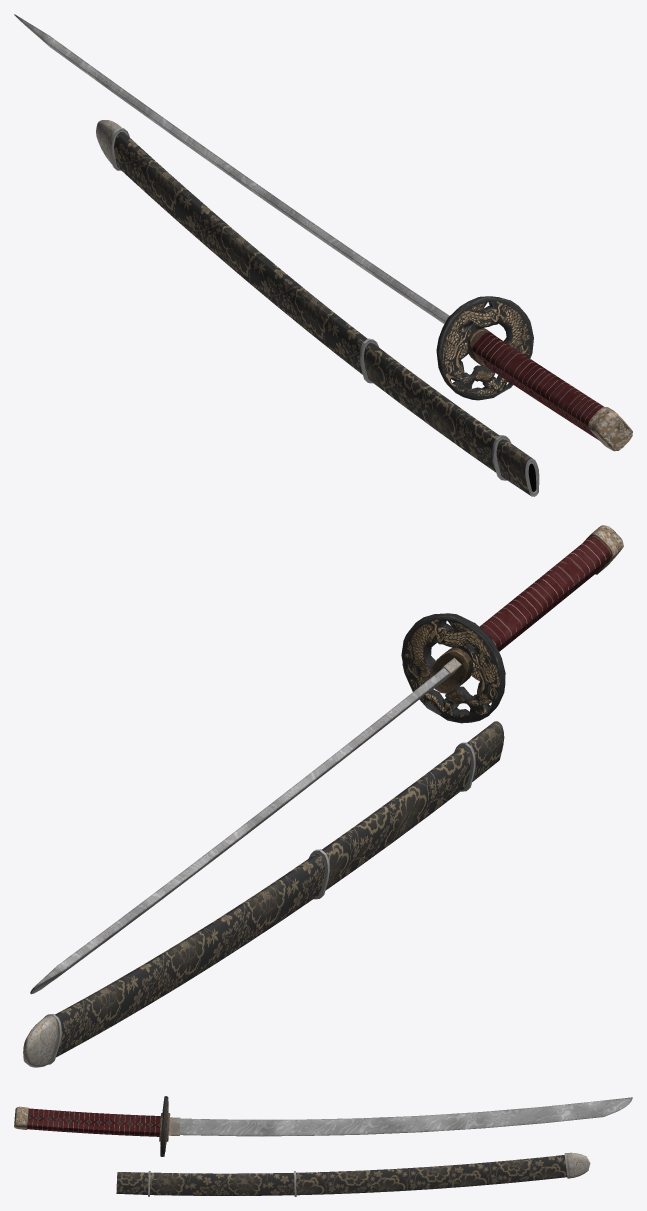
File: damascus_steel_katana.glb
3 views of the same model, one above another, from view 1: azimuth 30°, elevation 25°; view 2: azimuth 150°, elevation 25°; view 3: azimuth 270°, elevation 25° (orthographic). The views are drawn at different scales.
Parts seen in each view (by area): view 1: scabbard_low, ornament_low, blade_low, handle_low, pummle_low; view 2: scabbard_low, ornament_low, blade_low, handle_low, guard_low; view 3: scabbard_low, blade_low, handle_low, ornament_low, pummle_low, guardtip_low.
Boxes of the visible parts, x1,y1,x2,y2 form: scabbard_low: (96, 120, 539, 496); ornament_low: (436, 296, 533, 400); blade_low: (14, 14, 449, 323); handle_low: (472, 329, 604, 439); pummle_low: (588, 407, 632, 451); scabbard_low: (23, 721, 504, 1067); ornament_low: (401, 613, 505, 723); blade_low: (30, 668, 449, 994); handle_low: (452, 535, 611, 651); guard_low: (429, 647, 472, 693); scabbard_low: (116, 1152, 590, 1196); blade_low: (180, 1097, 632, 1136); handle_low: (27, 1108, 162, 1136); ornament_low: (160, 1096, 168, 1156); pummle_low: (14, 1106, 28, 1129); guardtip_low: (169, 1117, 180, 1135).
Bounding box in the file's own units: 8.83 × 15.55 × 91.28.
Materials: 1 (1 with a texture image).
